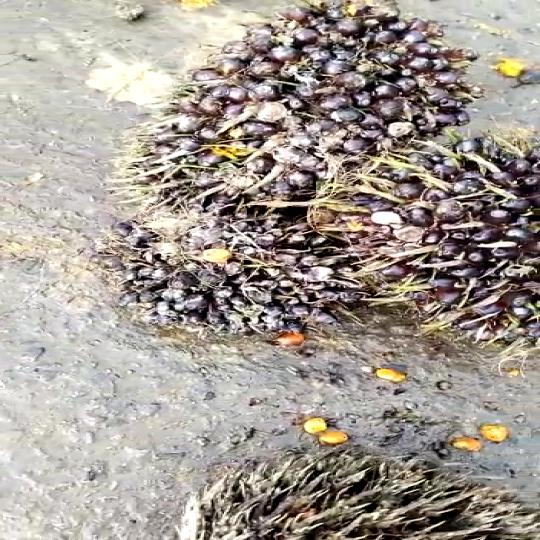mentah: (106, 16, 540, 358), (179, 458, 540, 540)
